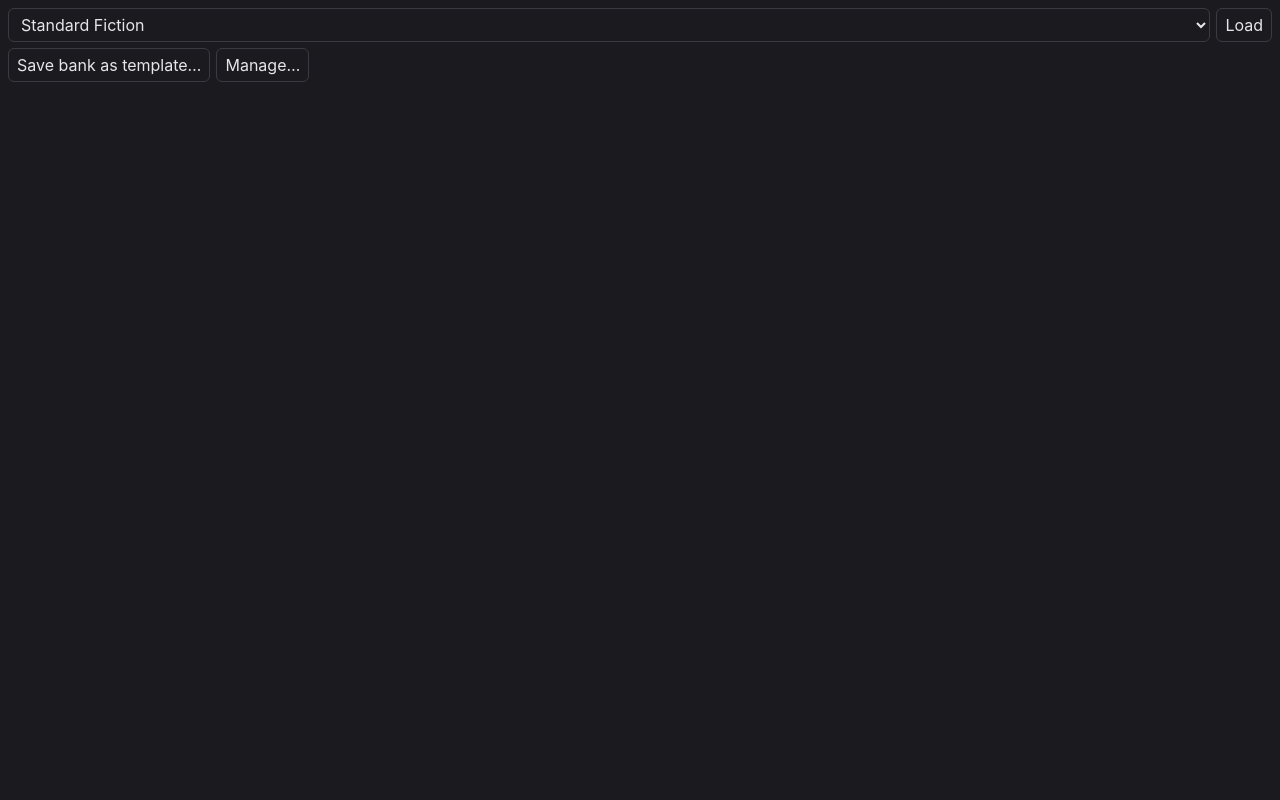
Test case: TemplateLoader, custom templates (F-4.11) › manages saved templates: rename, remove a tag, and delete after a confirm
Click the button "Manage…" at (263, 65), box [216,48,309,82]
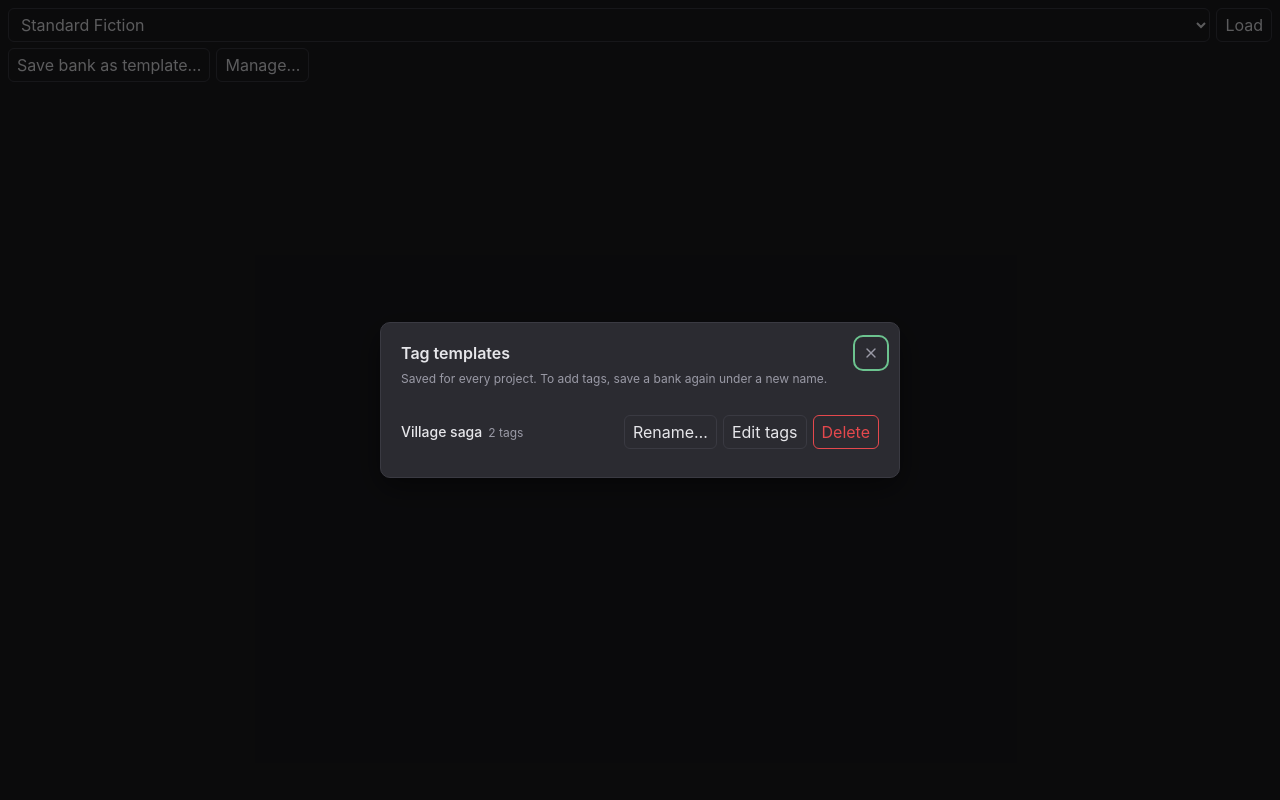
expect the dialog "Tag templates" shows "Village saga2 tags": met, box [380,322,900,478]
Click the button "Rename…" at (670, 432), box [624,415,717,449]
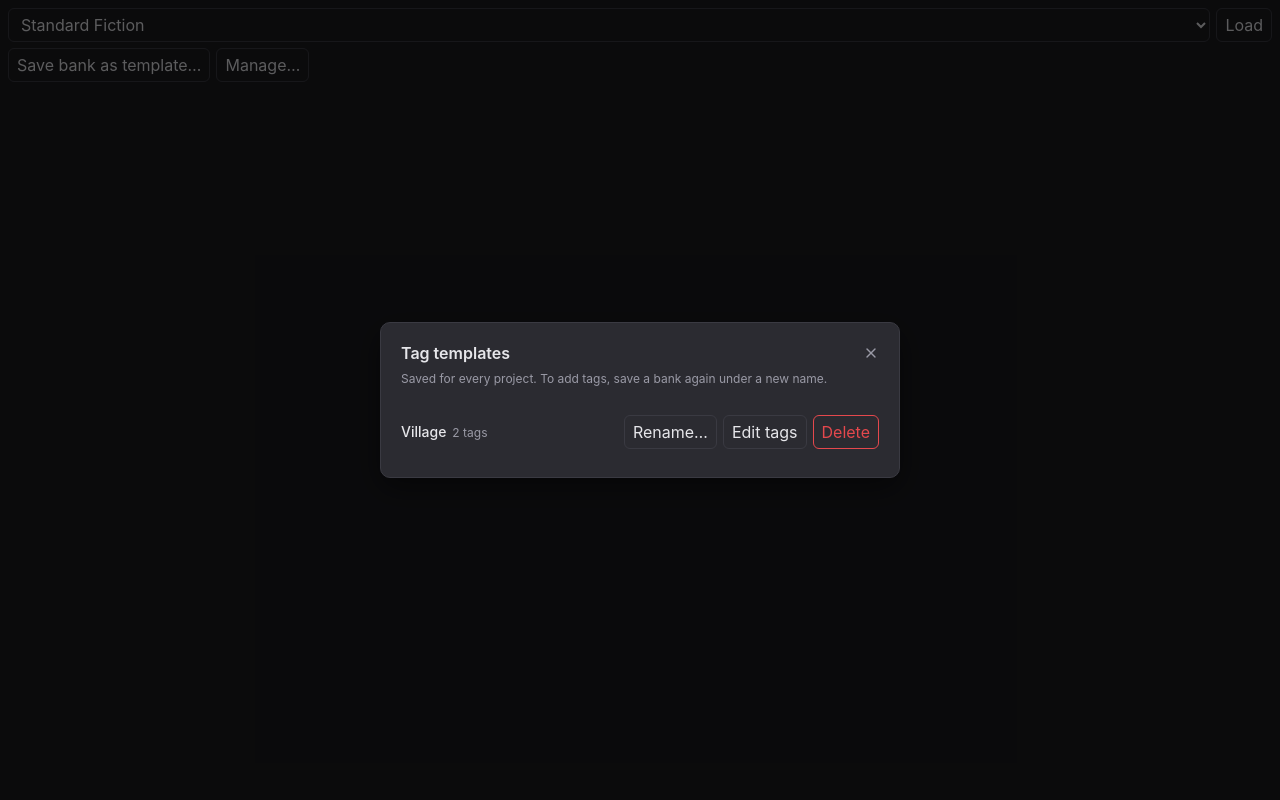
Click the button "Edit tags" at (765, 432), box [723,415,806,449]
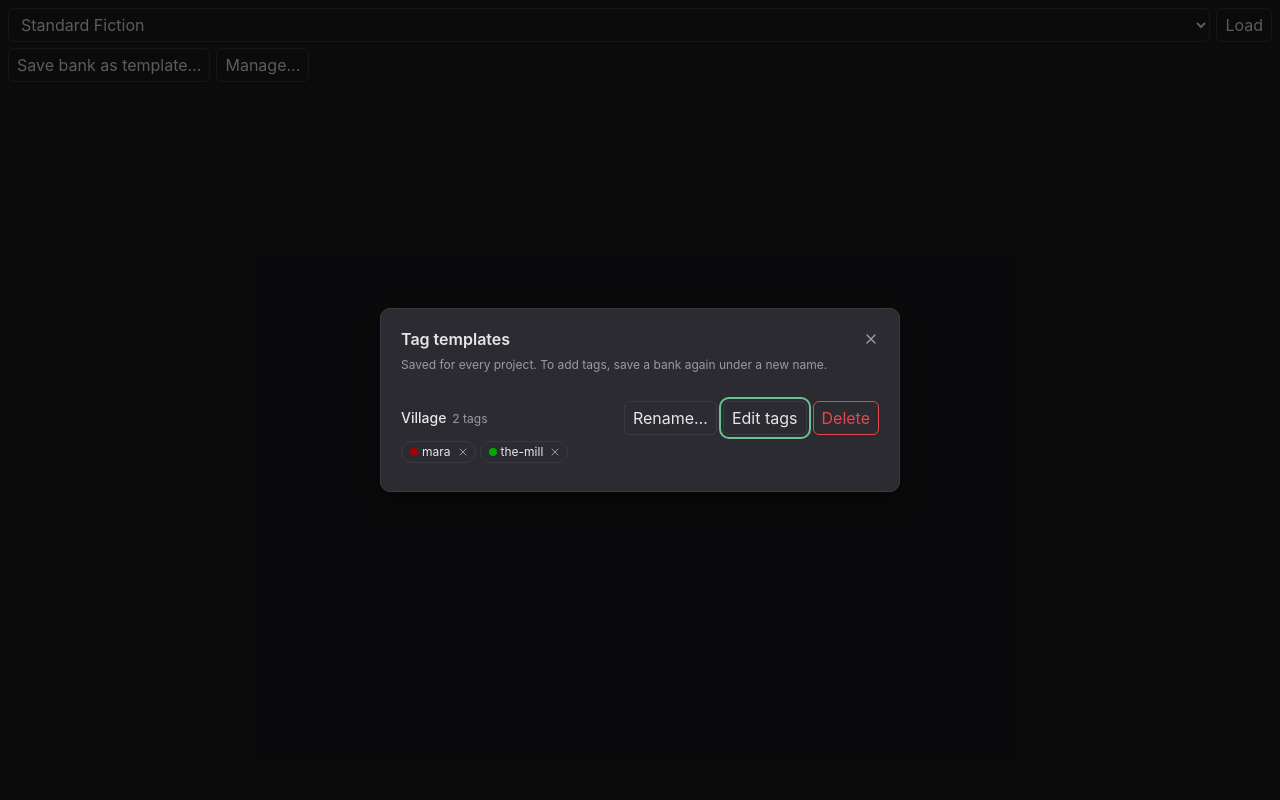
Click the button named "Remove the-mill from Village" at (555, 452), box [547,444,563,460]
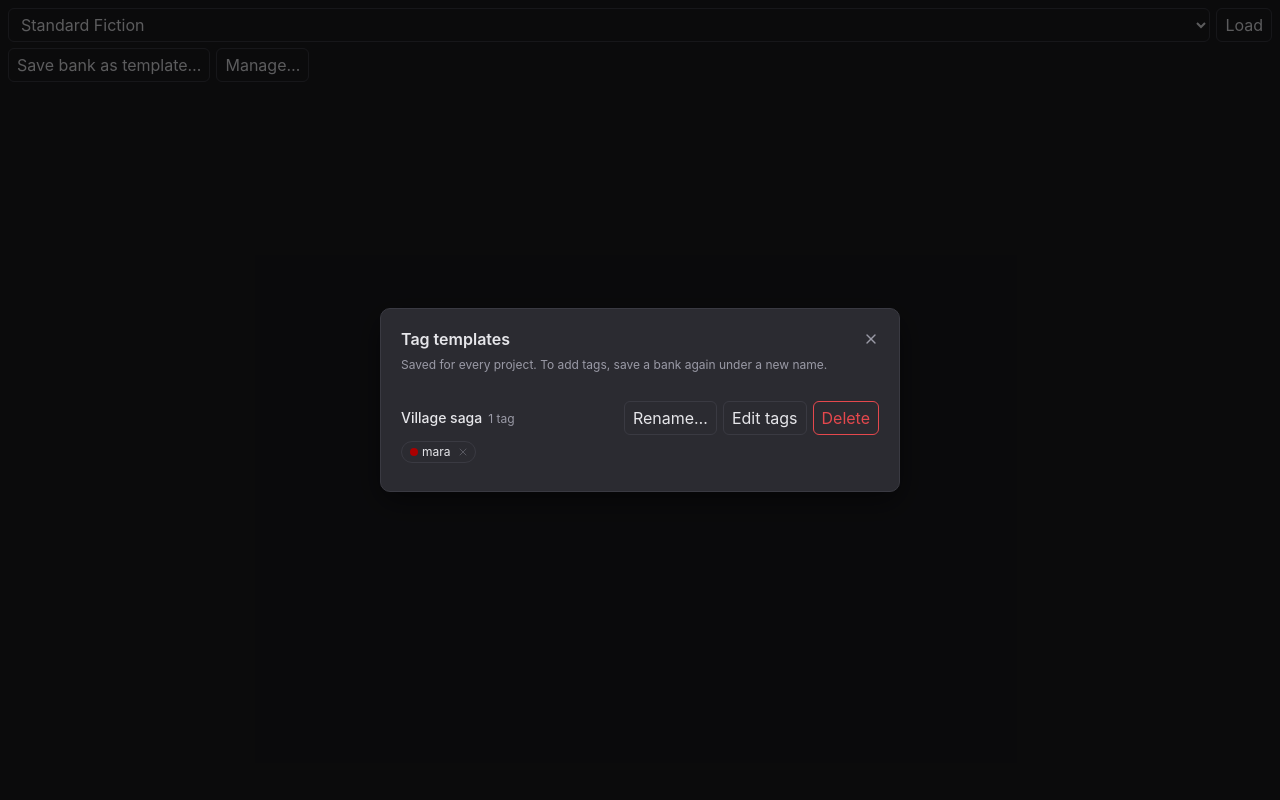
expect the button named "Remove mara from Village saga" is disabled: met, box [454,444,470,460]
Click the button "Delete" at (846, 418), box [812,401,879,435]
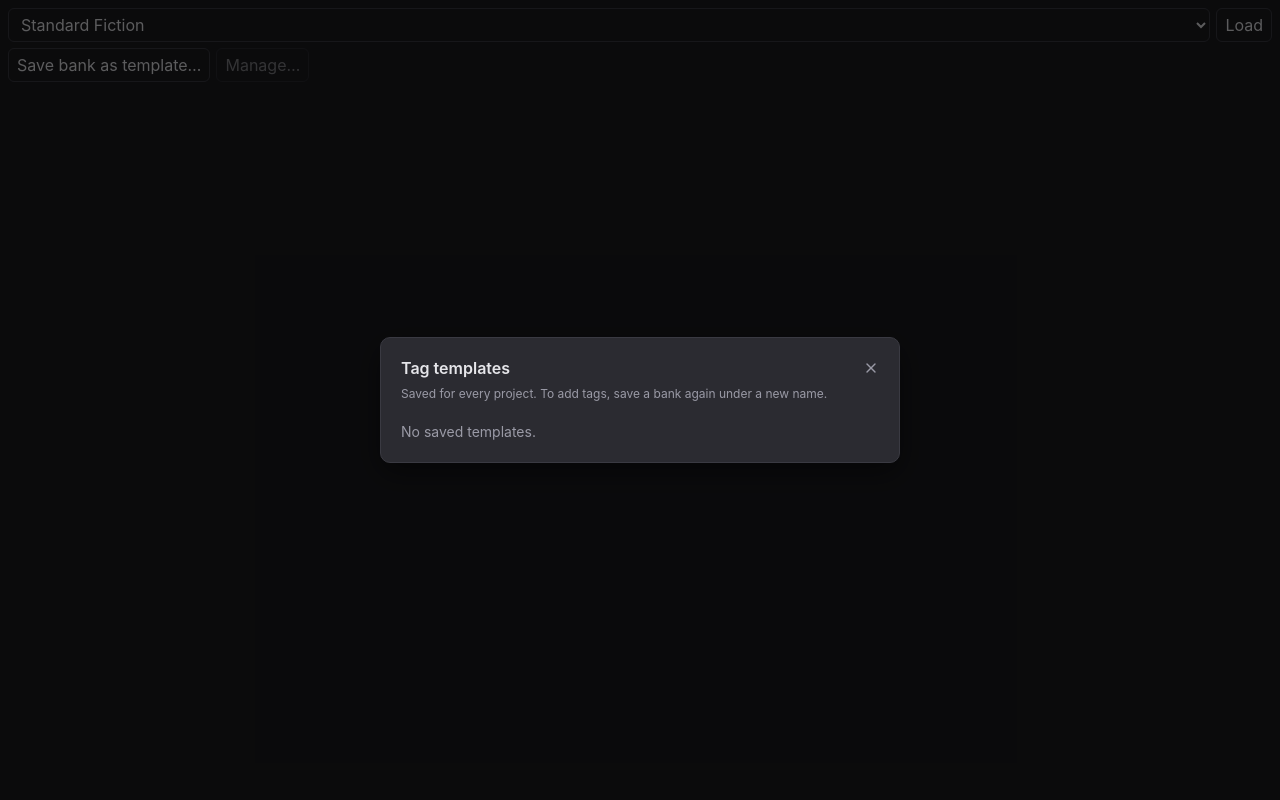
expect the text "No saved templates." is shown: met, box [401,423,536,440]
